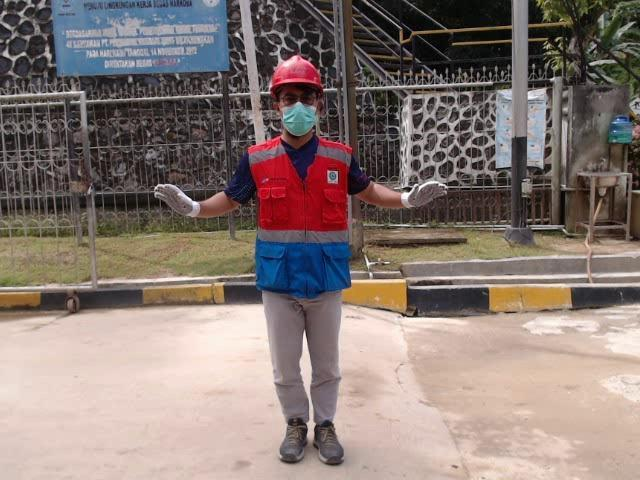helmet: (268, 53, 328, 94)
